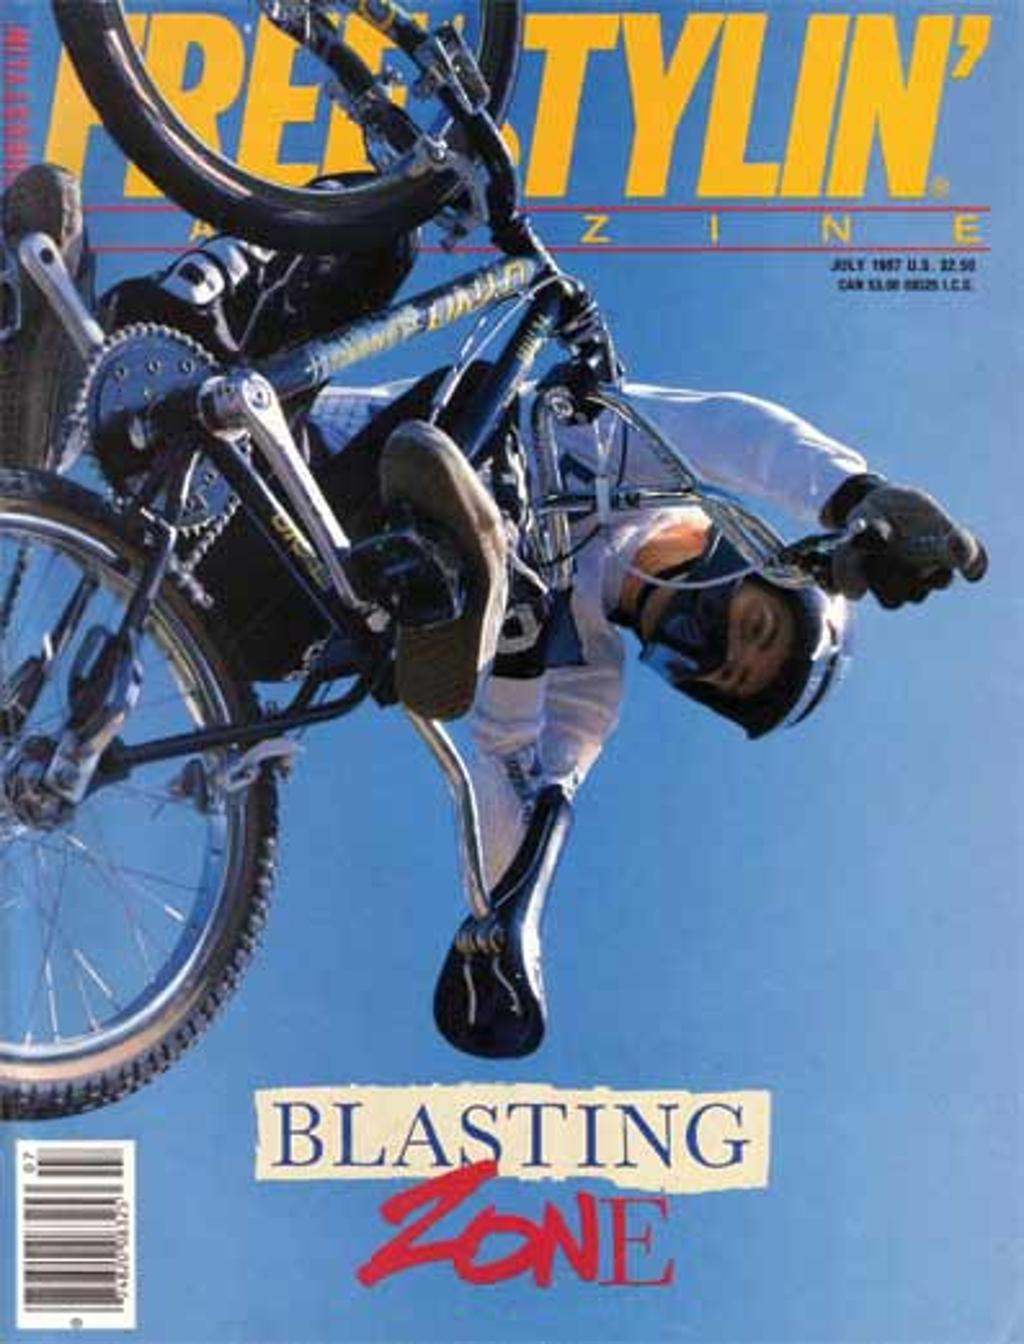face: (651, 557, 801, 694)
